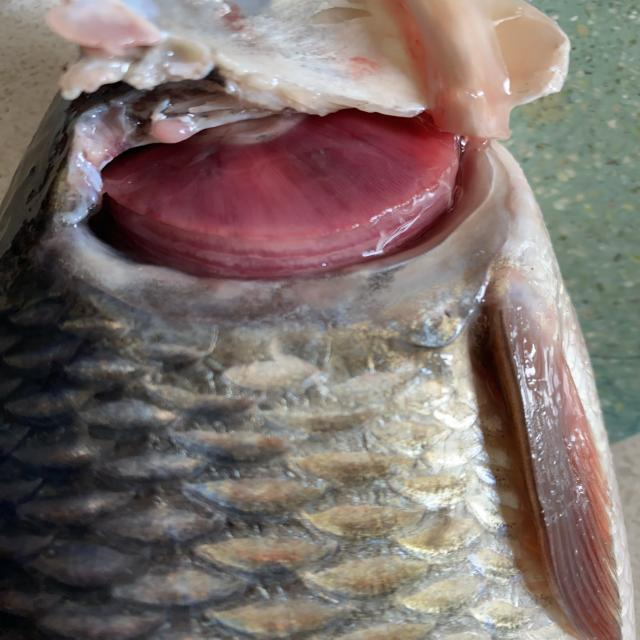Fresh: (66, 78, 496, 301)
